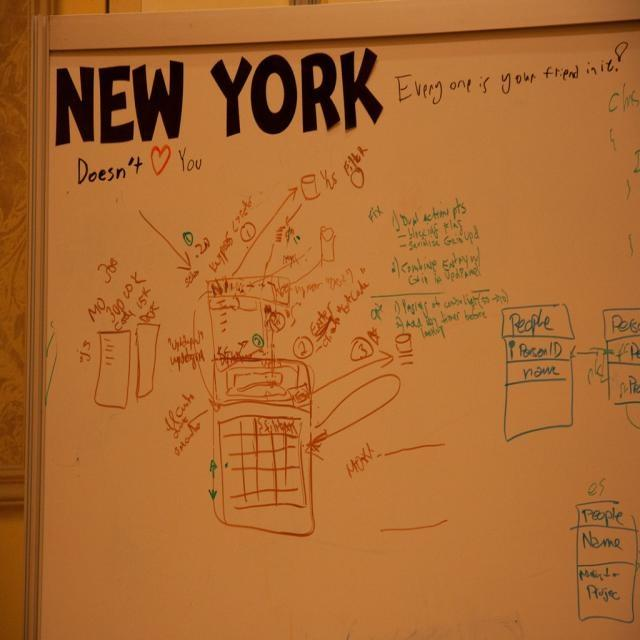Whiteboard: (33, 0, 639, 639)
